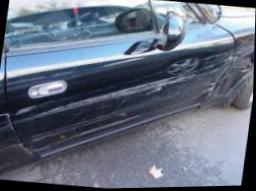Door: (172, 47, 235, 113)
Fender: (215, 49, 255, 93)
